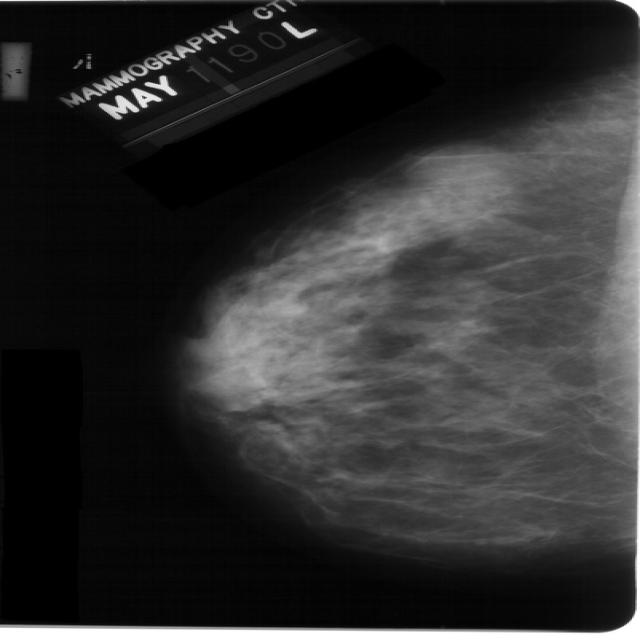tumour: (410, 140, 506, 184)
